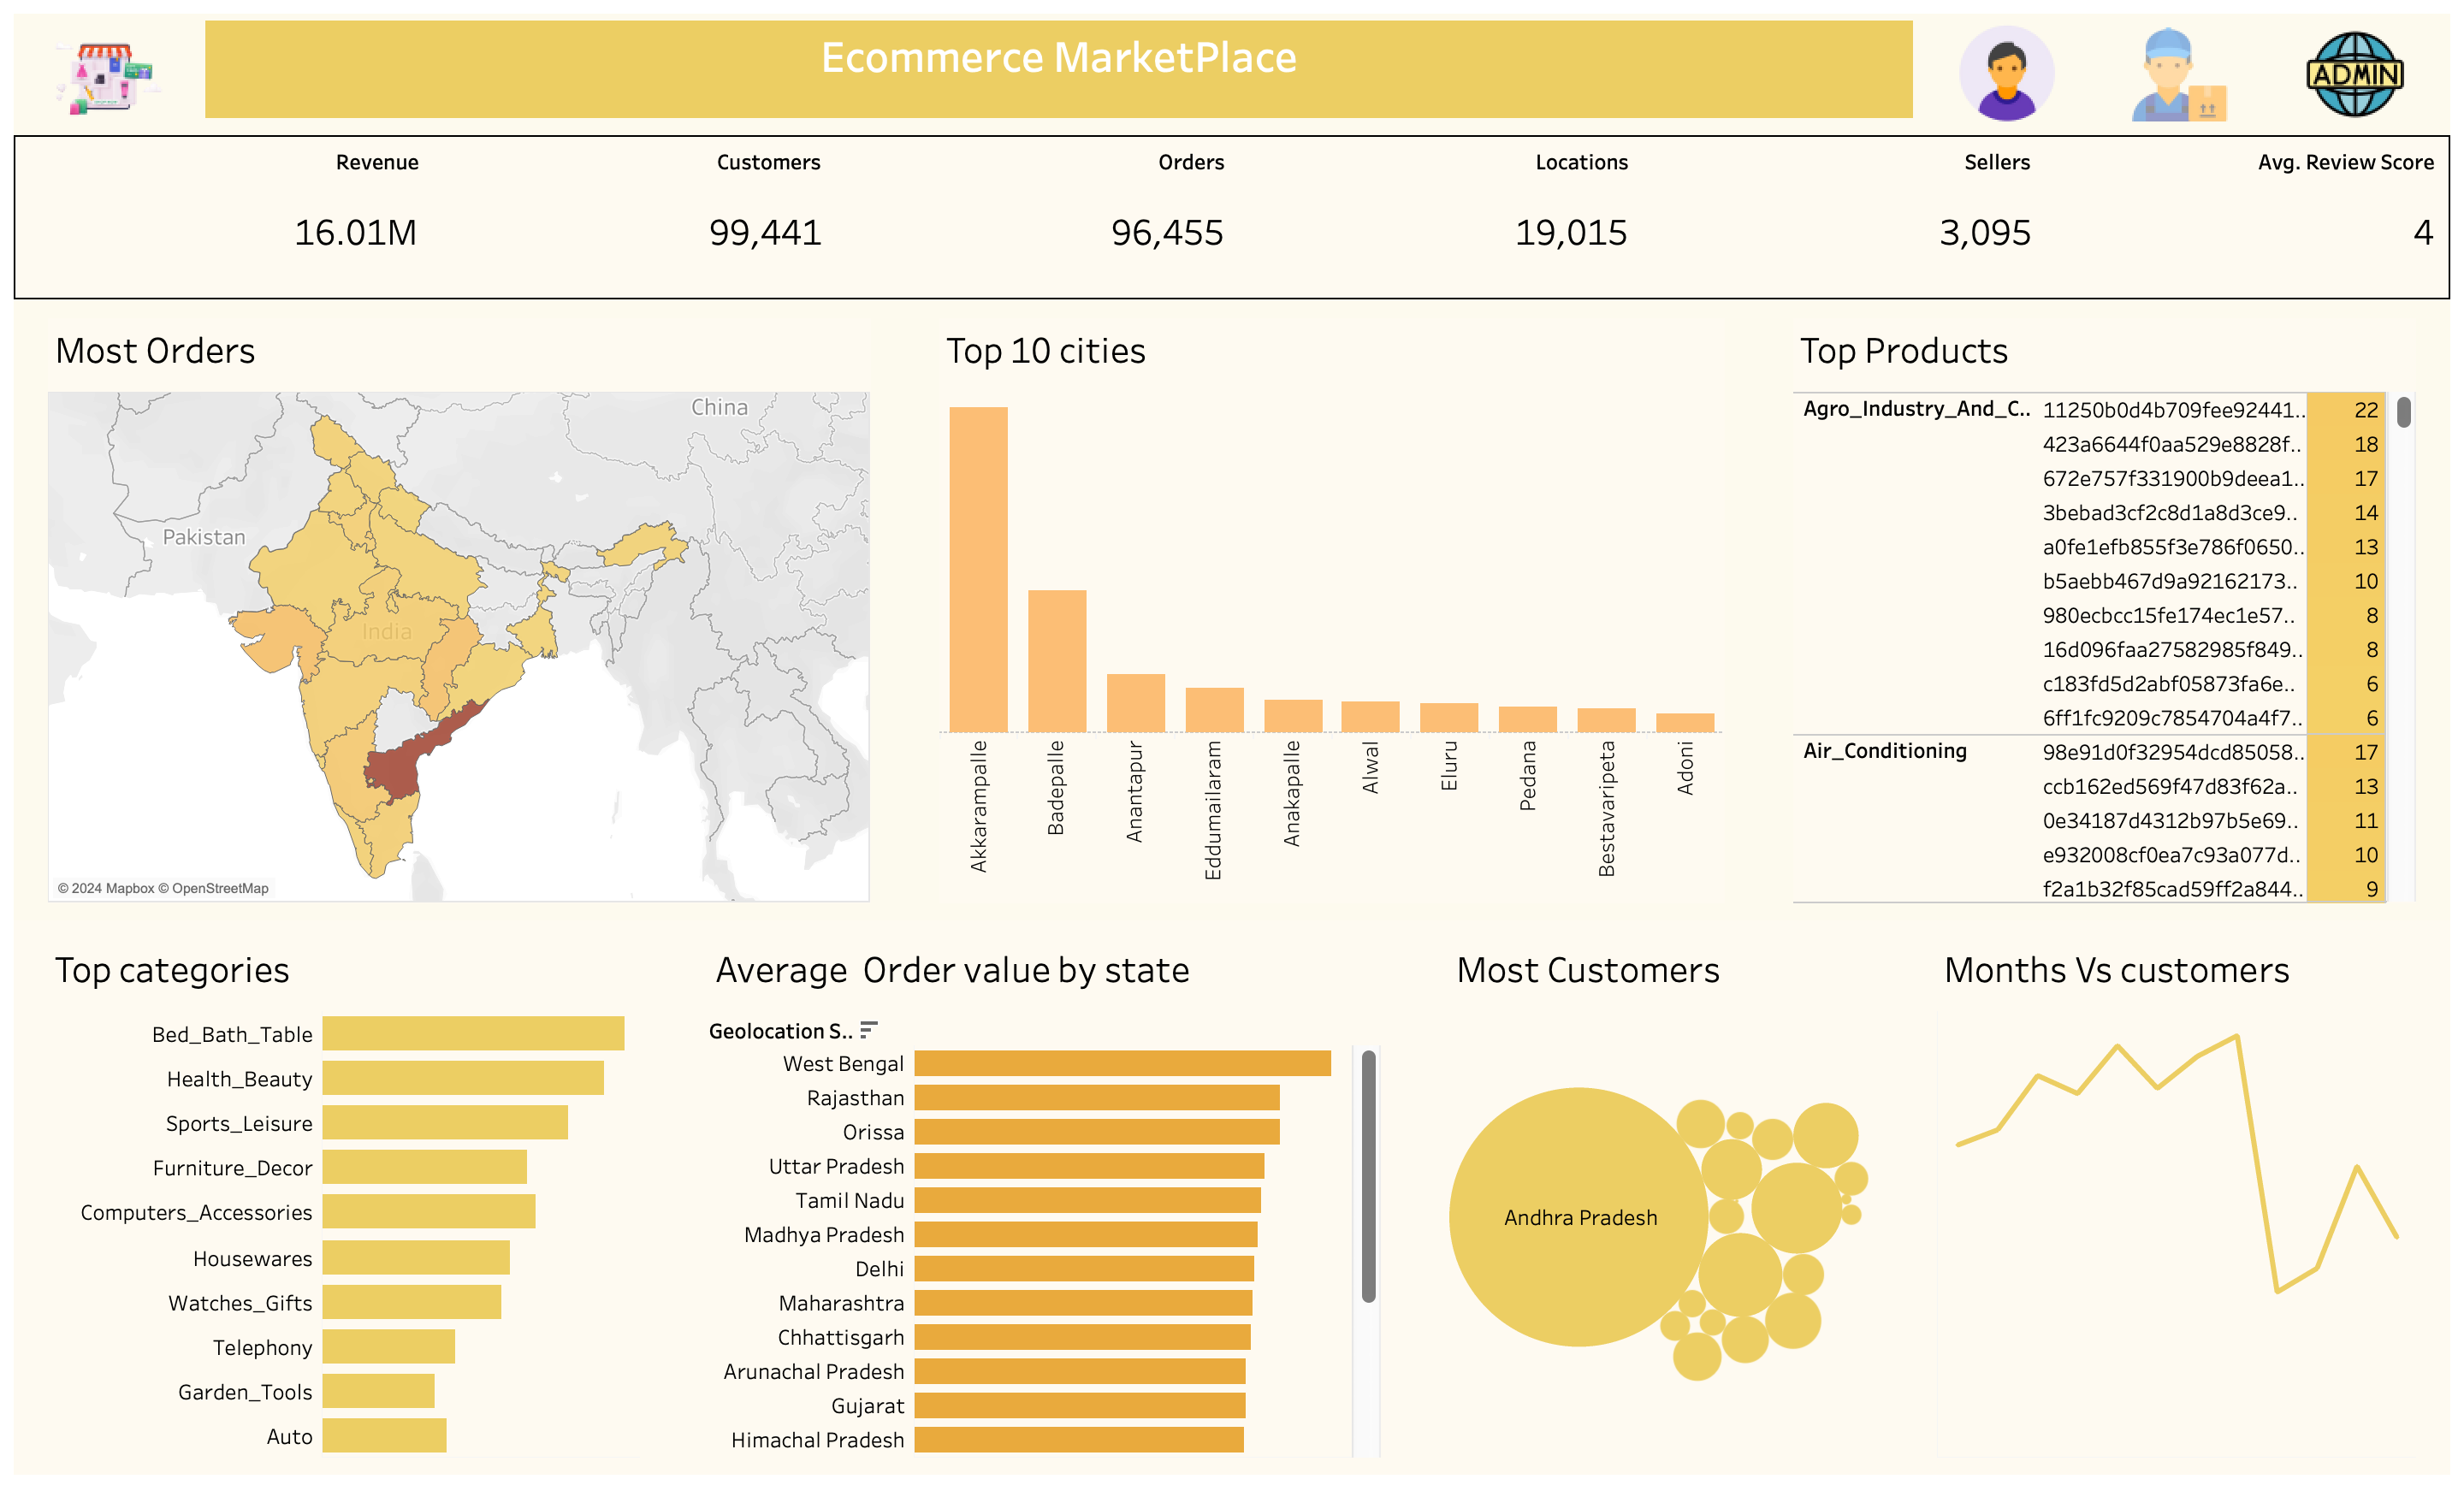

This screenshot's page, from the dashboard's own definition file:
{"tool":"tableau","page":{"name":"Sellers db","canvas":[1000,1000],"units":"permille","ordinal":2},"visuals":[{"type":"dashboard-object","box":[5.6,9.2,75.2,82.1]},{"type":"dashboard-object","box":[779.6,9.2,70.1,82.1]},{"type":"dashboard-object","box":[849.8,9.2,67.7,82.1]},{"type":"dashboard-object","box":[917.4,9.2,77,82.1]},{"type":"text","box":[83.5,13.8,693.3,47.1]},{"type":"worksheet","title":"Kpi ","mark":"Automatic","box":[6.2,92,987.5,109.2]},{"type":"worksheet","title":"Most orders","mark":"Automatic","box":[5.6,201.8,362,416.4]},{"type":"worksheet","title":"Top 10 cities","mark":"Automatic","rows":["Orders_97C702715E7B4C96A0EBADCE7B0E508A"],"cols":["customer_state","customer_city"],"box":[367.5,201.8,346.5,416.4]},{"type":"worksheet","title":"Top Products in each category","mark":"Square","rows":["product_category_name","product_id (products)"],"box":[714.1,201.8,280.4,416.4]},{"type":"worksheet","title":"Top categories by each state","mark":"Automatic","rows":["product_category_name"],"cols":["Orders_97C702715E7B4C96A0EBADCE7B0E508A"],"box":[5.6,618.2,268.1,372.6]},{"type":"worksheet","title":"Average  Order value by state","mark":"Automatic","rows":["geolocation_state"],"cols":["payment_value"],"box":[273.6,618.2,300.7,372.6]},{"type":"worksheet","title":"Most Customers","mark":"Circle","box":[574.3,618.2,197.8,372.6]},{"type":"worksheet","title":"Months vs customers","mark":"Automatic","rows":["customer_id"],"cols":["Calculation_53620995881111566"],"box":[772.1,618.2,222.4,372.6]}]}

Visuals, with their boxes on the dashboard's canvas, which has no fixed pixel size, in thousandths of its width and height (x1, y1, x2, y2). These are canvas units, not pixel positions in the 2464x1485 screenshot, which may show the page scaled, cropped or inside an application window:
dashboard-object: 6 9 81 91
dashboard-object: 780 9 850 91
dashboard-object: 850 9 918 91
dashboard-object: 917 9 994 91
text: 84 14 777 61
"Kpi " worksheet: 6 92 994 201
"Most orders" worksheet: 6 202 368 618
"Top 10 cities" worksheet: 368 202 714 618
"Top Products in each category" worksheet (Square marks): 714 202 994 618
"Top categories by each state" worksheet: 6 618 274 991
"Average  Order value by state" worksheet: 274 618 574 991
"Most Customers" worksheet (Circle marks): 574 618 772 991
"Months vs customers" worksheet: 772 618 994 991
